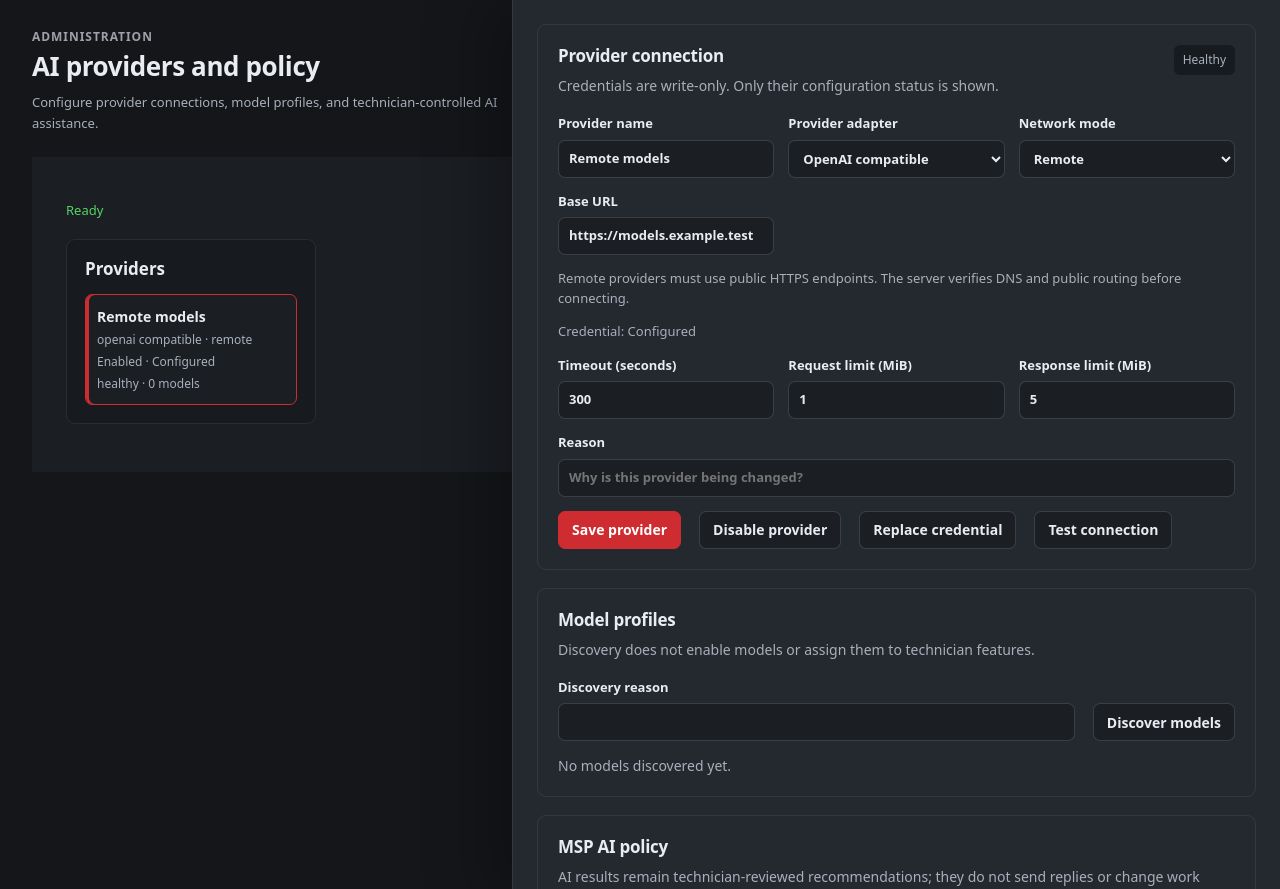
Test: AISettingsPage › preserves unsaved provider values and announces a conflict
Replace the text in the field labelled "Provider name" with "Edited remote": (666, 159) x1=558 y1=140 x2=774 y2=178
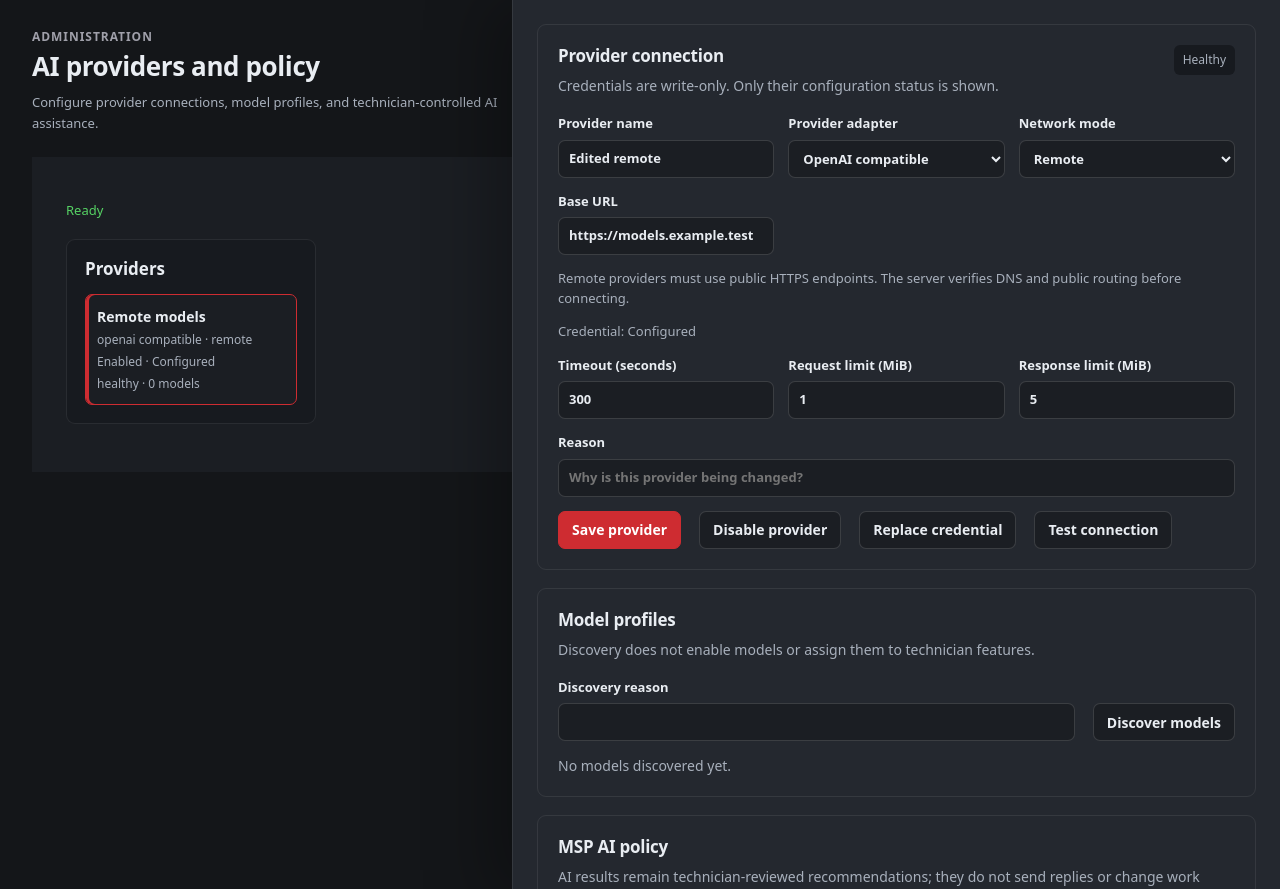
In the field labelled "Reason": (896, 478) x1=558 y1=459 x2=1235 y2=497, type "Rename"
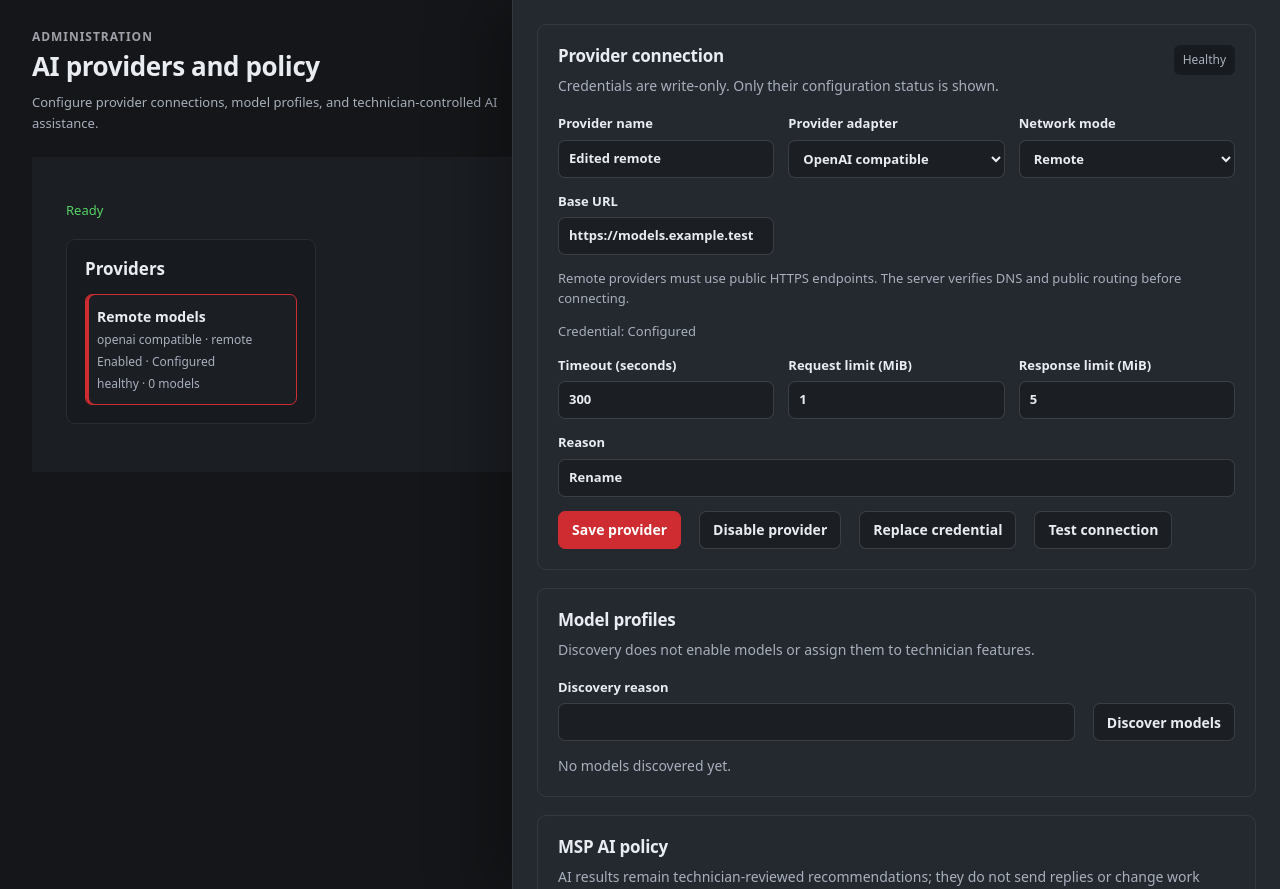
Click the button "Save provider": (620, 530) x1=558 y1=511 x2=681 y2=549
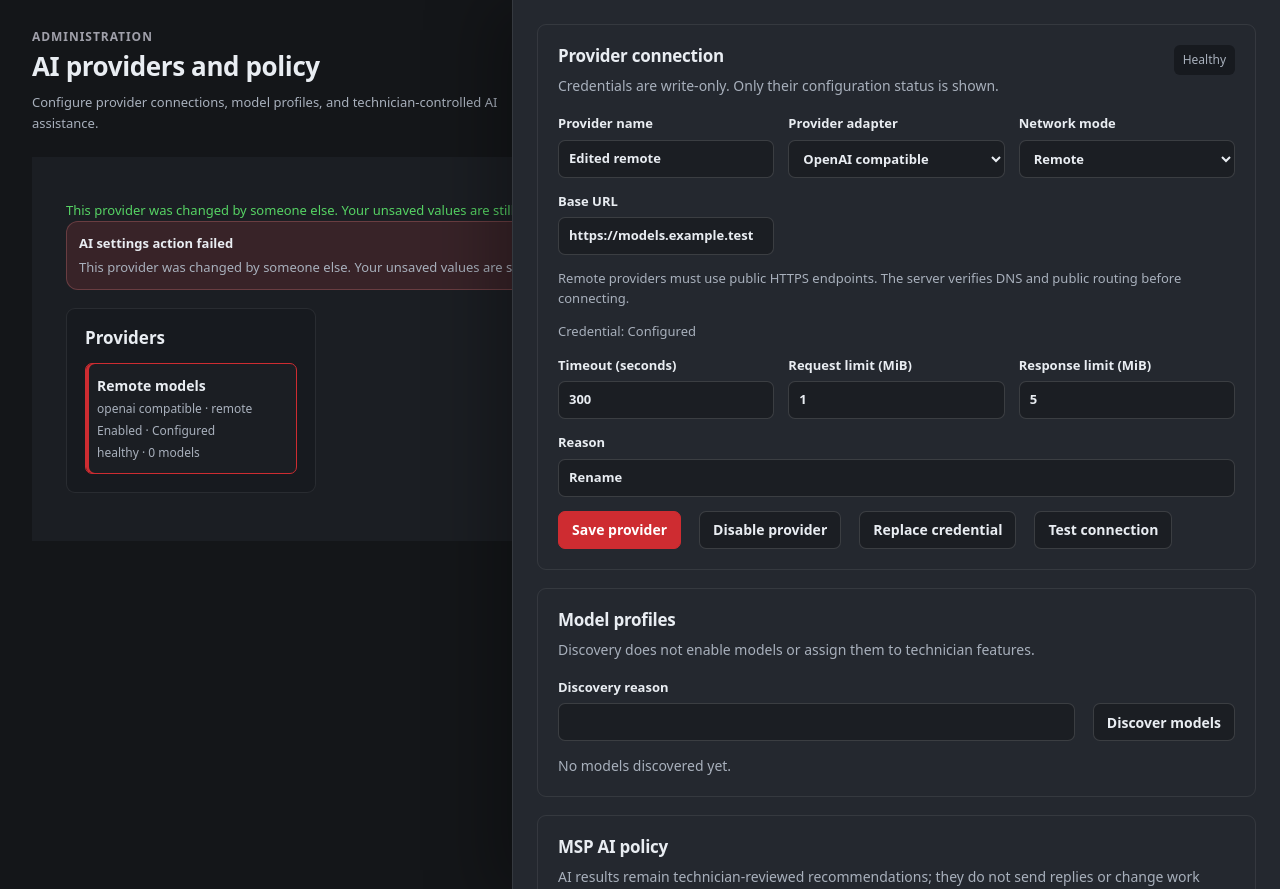
Expected: the message shows "changed by someone else", x1=66 y1=201 x2=549 y2=219
